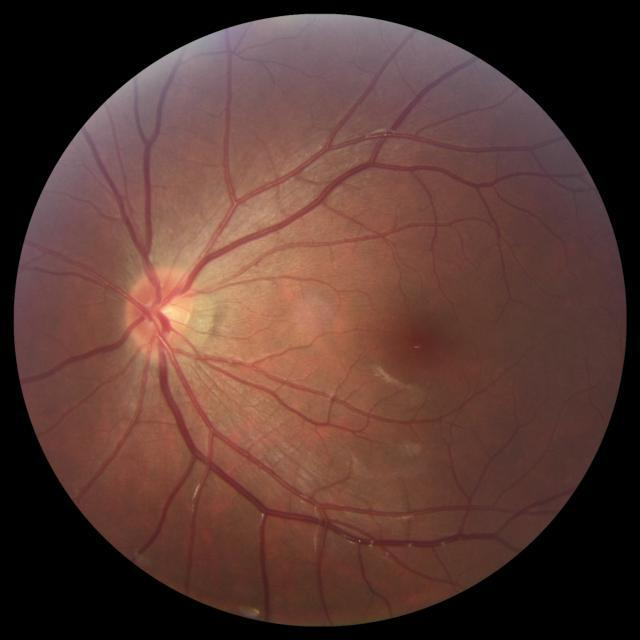OC: (144, 296, 180, 328)
OD: (122, 262, 196, 360)
